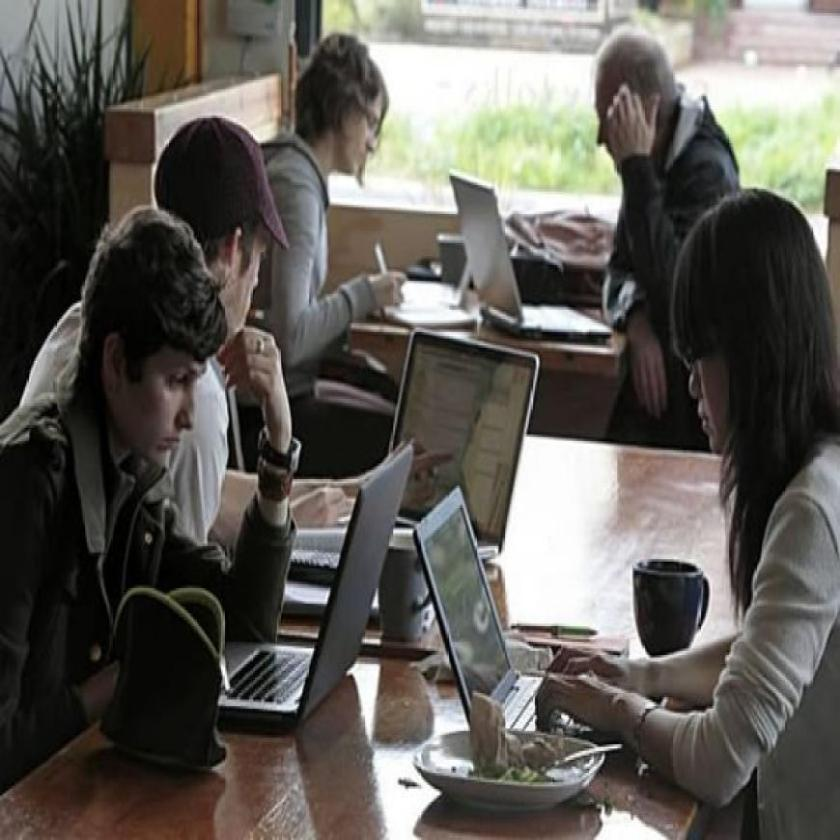Sin_casco: (670, 188, 830, 490), (84, 201, 225, 484), (162, 112, 286, 365), (297, 26, 392, 194), (588, 25, 675, 173)
